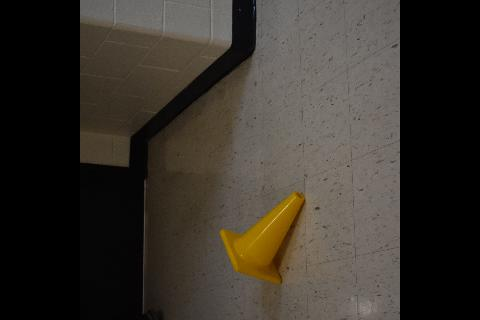cone: (218, 190, 304, 282)
